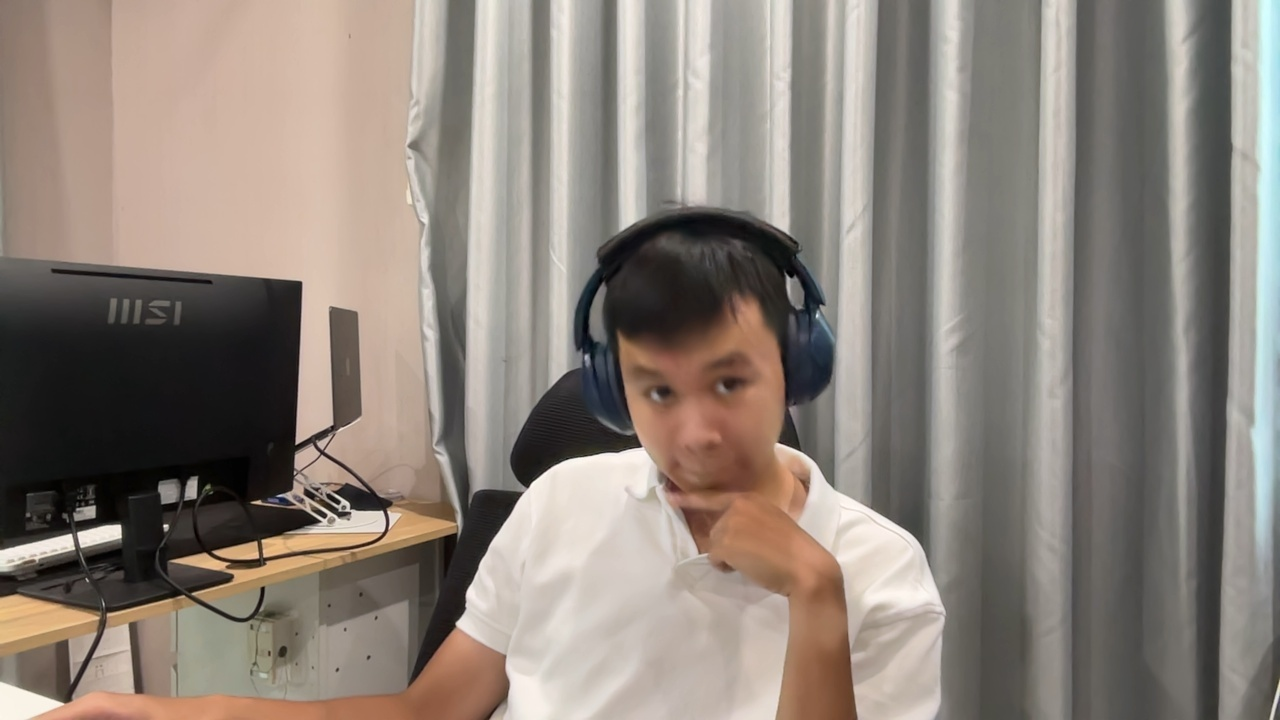over_ear: (572, 208, 837, 441), (571, 207, 838, 422)
